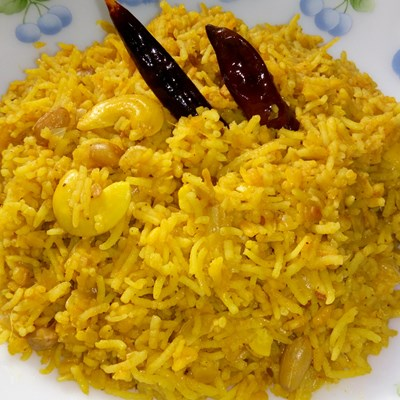khichuri: (9, 18, 384, 389)
